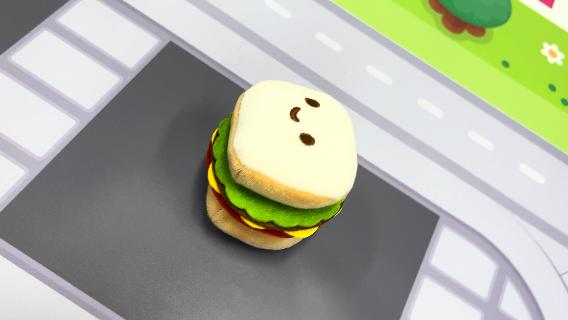sandwich: (203, 77, 361, 251)
